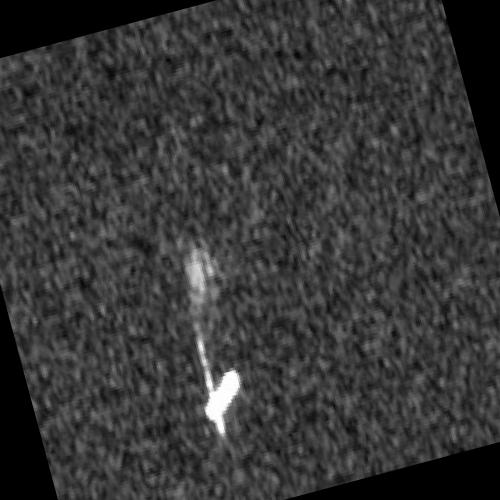ship: (204, 368, 241, 425)
